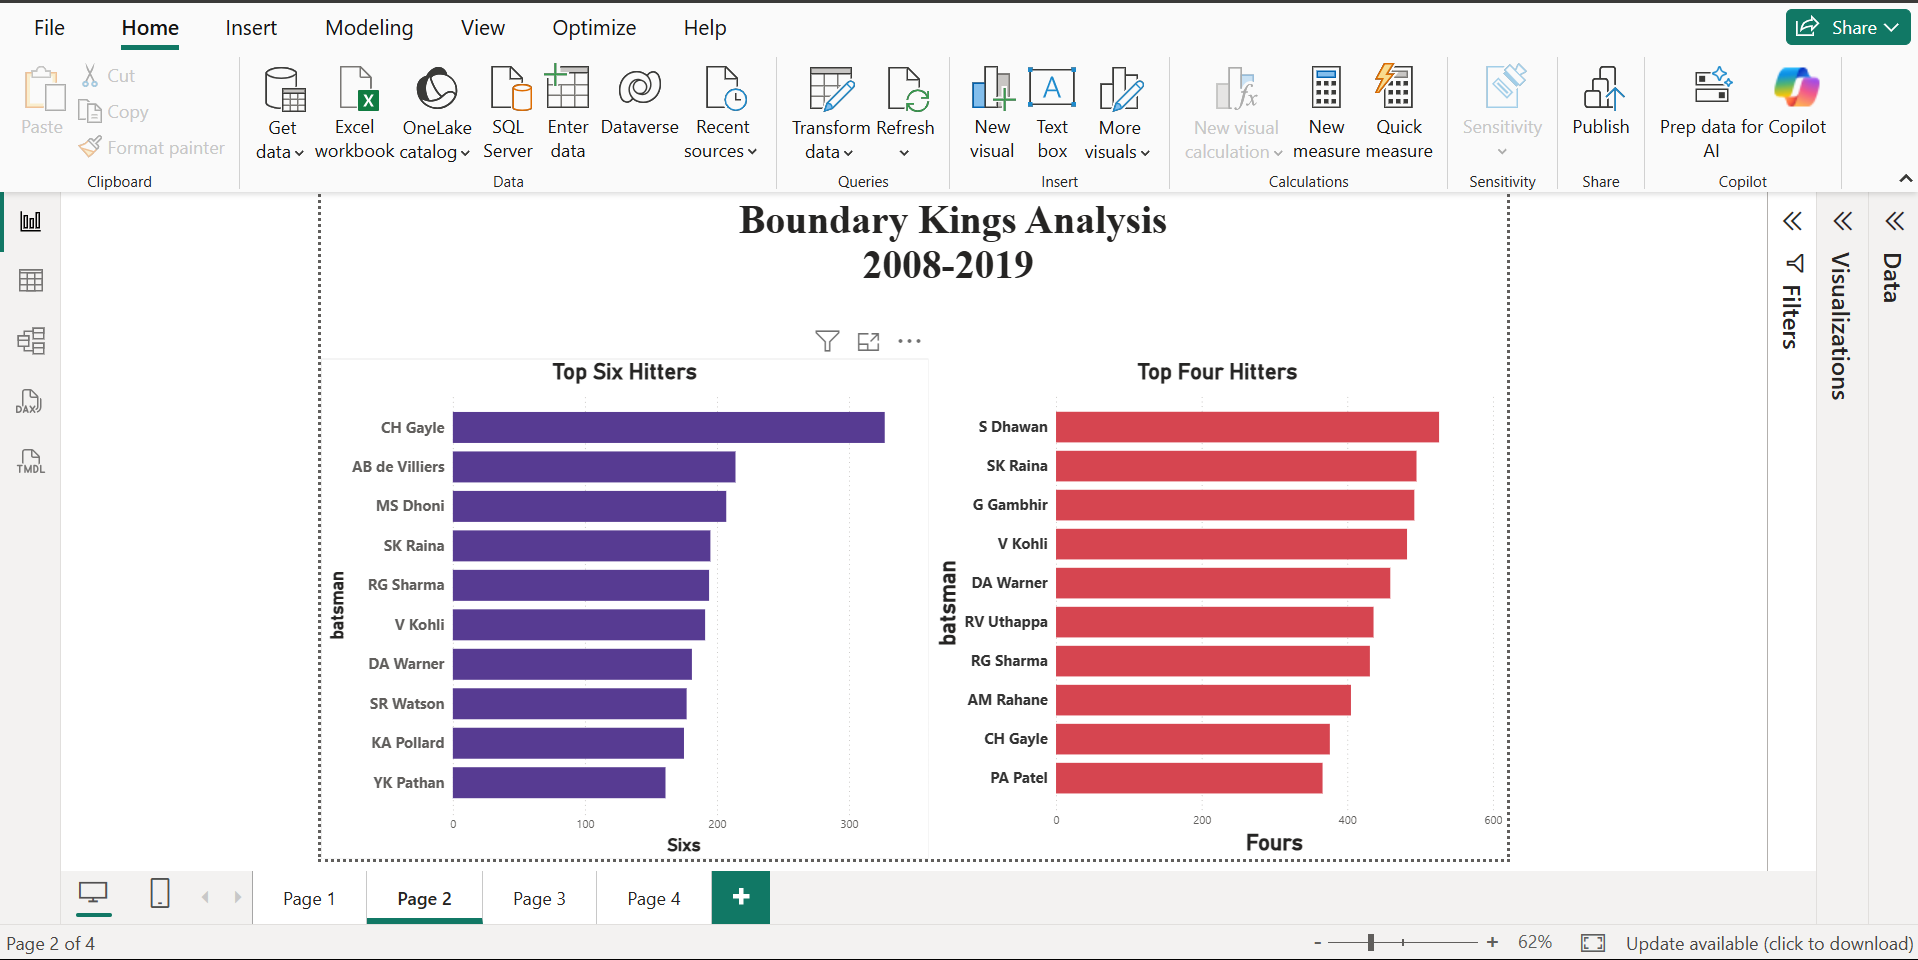

The page's visual inventory and layout, read from the dashboard file:
{"tool":"powerbi","page":{"name":"Page 2","canvas":[1280,720],"ordinal":1},"visuals":[{"type":"barChart","title":"Top Six Hitters","fields":{"Category":["most_sixes.batsman"],"Y":["Sum(most_sixes.Sixes)"]},"box":[0,180,656,540],"z":0},{"type":"barChart","title":"Top Four Hitters","fields":{"Category":["most_fours.batsman"],"Y":["Sum(most_fours.Fours)"]},"box":[656,180,624,540],"z":1000},{"type":"textbox","box":[434,0,486,114],"z":2000}]}

Visuals, with their boxes on the page's 1280x720 design canvas (x1, y1, x2, y2). These are canvas units, not pixel positions in the 1918x960 screenshot, which may show the page scaled, cropped or inside an application window:
"Top Six Hitters" barChart: left=0, top=180, right=656, bottom=720
"Top Four Hitters" barChart: left=656, top=180, right=1280, bottom=720
textbox: left=434, top=0, right=920, bottom=114
